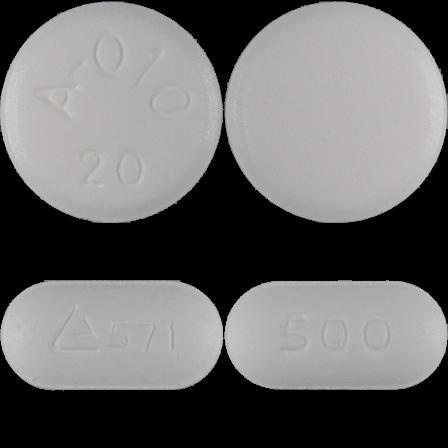49999-818: (0, 0, 224, 224)
